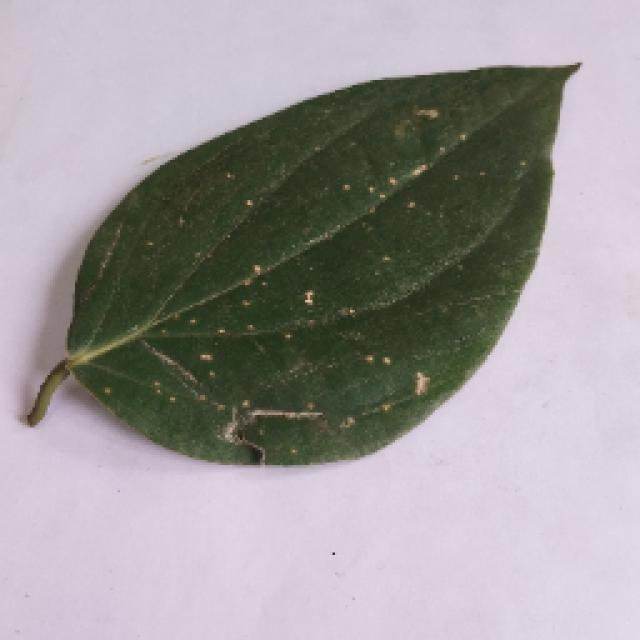pollu-disease: (12, 60, 578, 465)
